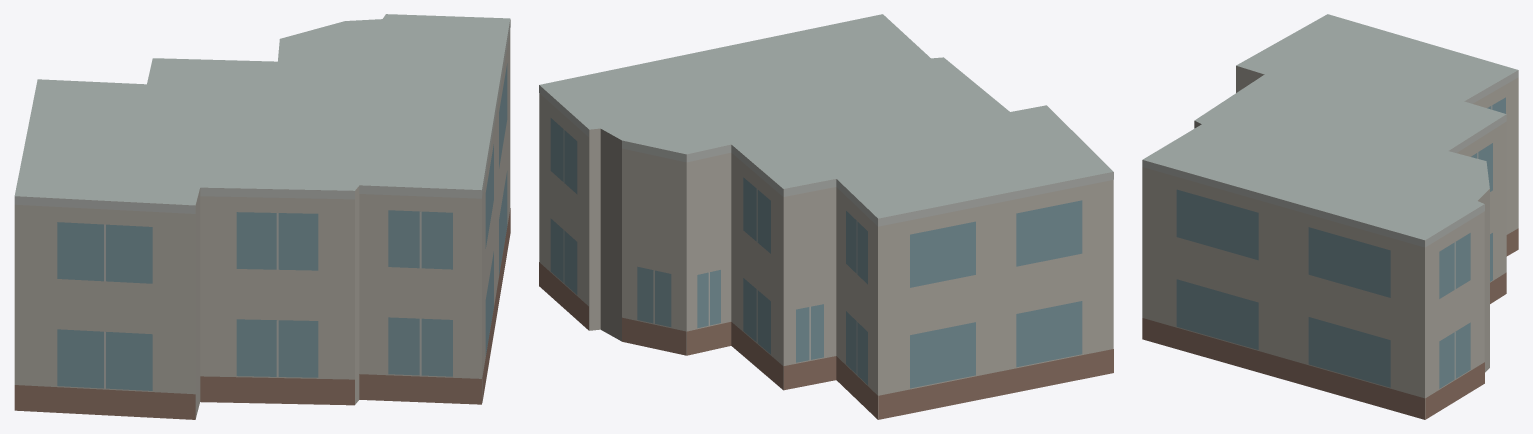
File: survey-upis-32657111.glb
The picture shows the model from 3 angles, left to right: view 1: azimuth 30°, elevation 25°; view 2: azimuth 150°, elevation 25°; view 3: azimuth 270°, elevation 25°; orthographic projection. The views are drawn at different scales.
Parts seen in each view (by area): view 1: survey-upis-32657111.tmp; view 2: survey-upis-32657111.tmp; view 3: survey-upis-32657111.tmp.
Part boxes in pixels (x1,y1,x2,y2): survey-upis-32657111.tmp: [14, 14, 510, 419]; survey-upis-32657111.tmp: [539, 14, 1113, 419]; survey-upis-32657111.tmp: [1142, 14, 1518, 419].
Bounding box in the file's own units: 16.51 × 6.1 × 11.6.
